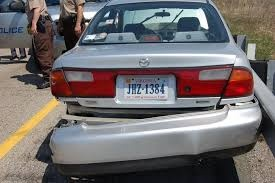Broken-glass: (51, 66, 66, 91)
Dent: (48, 94, 213, 162)
